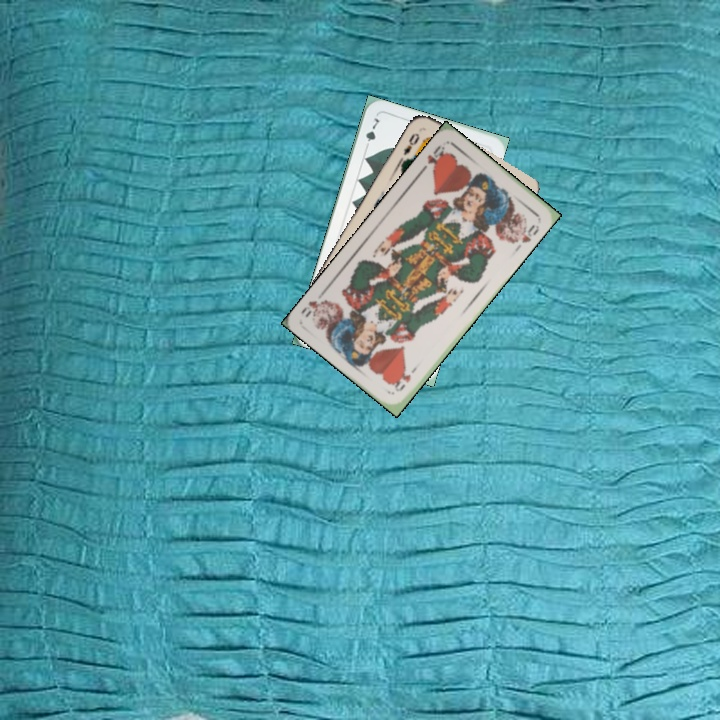EO: (399, 129, 422, 158)
G7: (361, 114, 382, 152)
HO: (417, 141, 449, 174), (390, 361, 421, 394)
